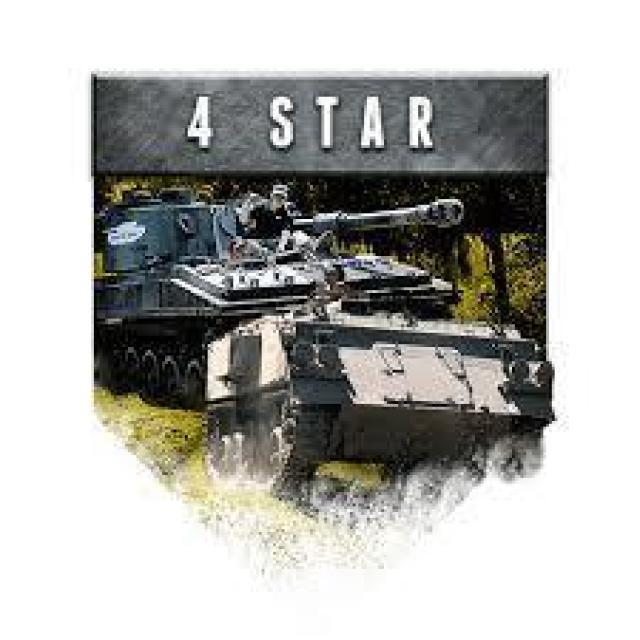MIL_MBT: (206, 193, 556, 461), (95, 199, 329, 412)
